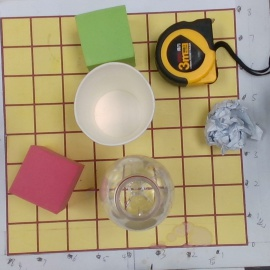bottle: (101, 156, 174, 230)
cup: (73, 61, 156, 147)
